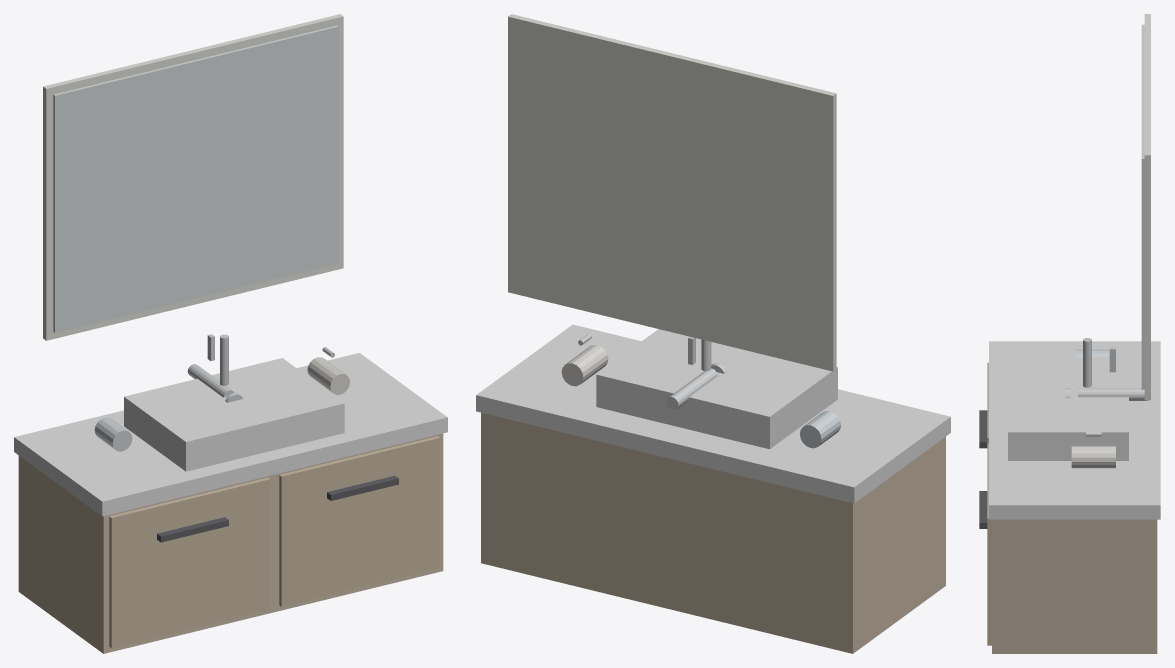
Rendered from bathroom_vanity.glb.
3 renders of one model, left to right at view 1: azimuth 30°, elevation 25°; view 2: azimuth 150°, elevation 25°; view 3: azimuth 270°, elevation 25°, orthographic. The views are drawn at different scales.
Parts seen in each view (by area): view 1: geometry_16, geometry_5, geometry_1, geometry_3, geometry_0, geometry_6, geometry_15, geometry_12, geometry_14, geometry_2, geometry_4; view 2: geometry_15, geometry_0, geometry_5, geometry_6, geometry_12, geometry_14, geometry_9; view 3: geometry_0, geometry_5, geometry_6, geometry_15, geometry_16, geometry_12, geometry_3, geometry_9, geometry_10, geometry_2, geometry_4.
Part boxes in pixels (<box>): geometry_16: <box>53,25,338,332</box>; geometry_5: <box>14,353,447,516</box>; geometry_1: <box>109,477,270,648</box>; geometry_3: <box>279,436,440,606</box>; geometry_0: <box>18,433,443,653</box>; geometry_6: <box>124,358,344,471</box>; geometry_15: <box>43,14,343,340</box>; geometry_12: <box>307,357,349,394</box>; geometry_14: <box>94,417,132,451</box>; geometry_2: <box>157,517,228,542</box>; geometry_4: <box>327,475,398,500</box>; geometry_15: <box>508,14,836,371</box>; geometry_0: <box>481,412,945,653</box>; geometry_5: <box>476,324,950,503</box>; geometry_6: <box>596,329,837,449</box>; geometry_12: <box>561,345,608,386</box>; geometry_14: <box>800,411,840,448</box>; geometry_9: <box>666,368,717,410</box>; geometry_0: <box>992,519,1157,653</box>; geometry_5: <box>989,341,1160,519</box>; geometry_6: <box>1008,357,1128,460</box>; geometry_15: <box>1144,14,1150,400</box>; geometry_16: <box>1141,24,1144,389</box>; geometry_12: <box>1071,446,1115,468</box>; geometry_3: <box>987,443,991,645</box>; geometry_9: <box>1078,388,1147,400</box>; geometry_10: <box>1083,338,1091,387</box>; geometry_2: <box>979,410,987,448</box>; geometry_4: <box>979,491,987,528</box>.
Size of the model in its own units: 1.22 by 1.7 by 0.57.
